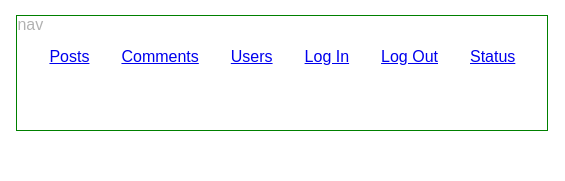
Test case: Forum Features › Has a Page for Logging In
Click the link "Log In" at {"x": 328, "y": 57}, box [305,48,350,65]
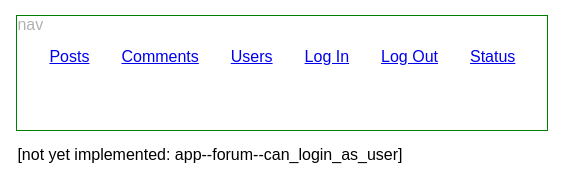
Check: the text "[not yet implemented: app--forum--can_login_as_user]" is shown, box [17,146,402,163]
